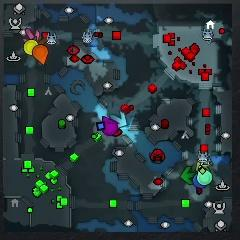p1: (193, 175, 205, 188)
p2: (197, 171, 212, 185)
p3: (102, 116, 117, 135)
p4: (24, 40, 38, 56)
p5: (33, 45, 48, 65)
x1: (23, 28, 40, 42)
x2: (196, 161, 213, 172)
x3: (110, 112, 127, 127)
x4: (180, 166, 195, 184)
x5: (33, 36, 47, 45)
